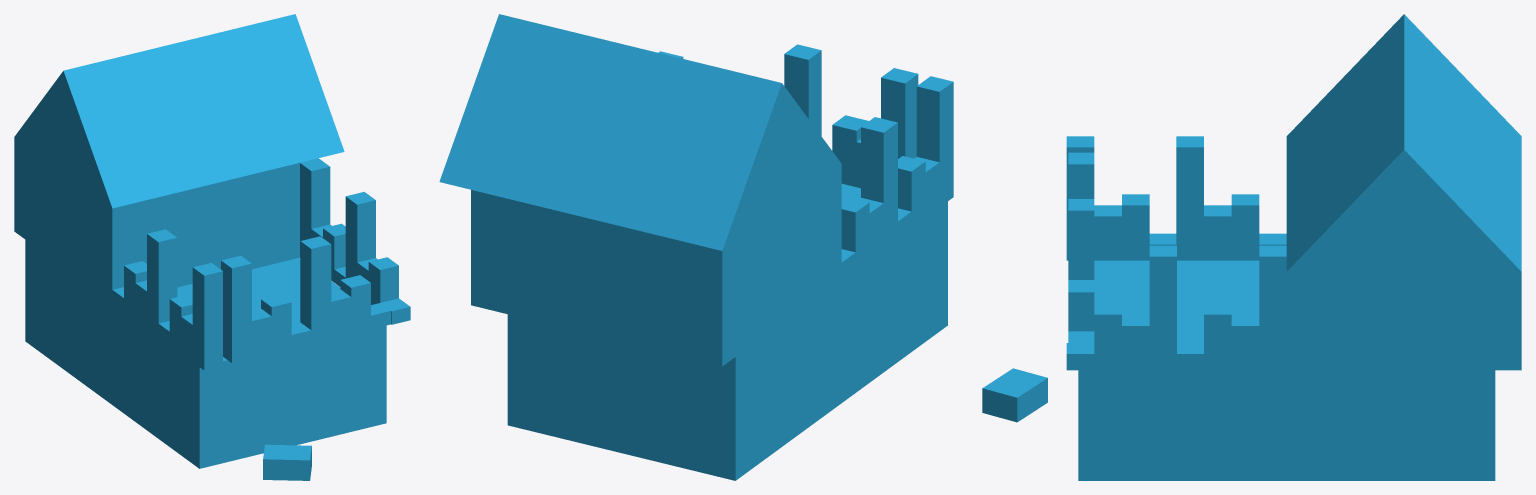
File: thievesGuild01.glb
3 views of the same model, side by side, from view 1: azimuth 30°, elevation 25°; view 2: azimuth 150°, elevation 25°; view 3: azimuth 270°, elevation 25° (orthographic). The views are drawn at different scales.
Visible parts, largest first — view 1: ThievesGuild01; view 2: ThievesGuild01; view 3: ThievesGuild01.
Part boxes in pixels (bbox=[...]): ThievesGuild01: bbox=[14, 14, 410, 480]; ThievesGuild01: bbox=[439, 14, 953, 480]; ThievesGuild01: bbox=[982, 14, 1521, 480].
Size of the model in its own units: 1.54 by 1.89 by 2.58.
